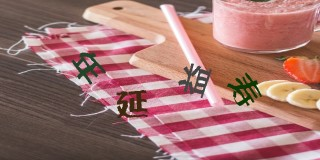寿: (226, 71, 262, 109)
年: (71, 50, 106, 84)
延: (113, 90, 150, 121)
益: (176, 62, 211, 97)
